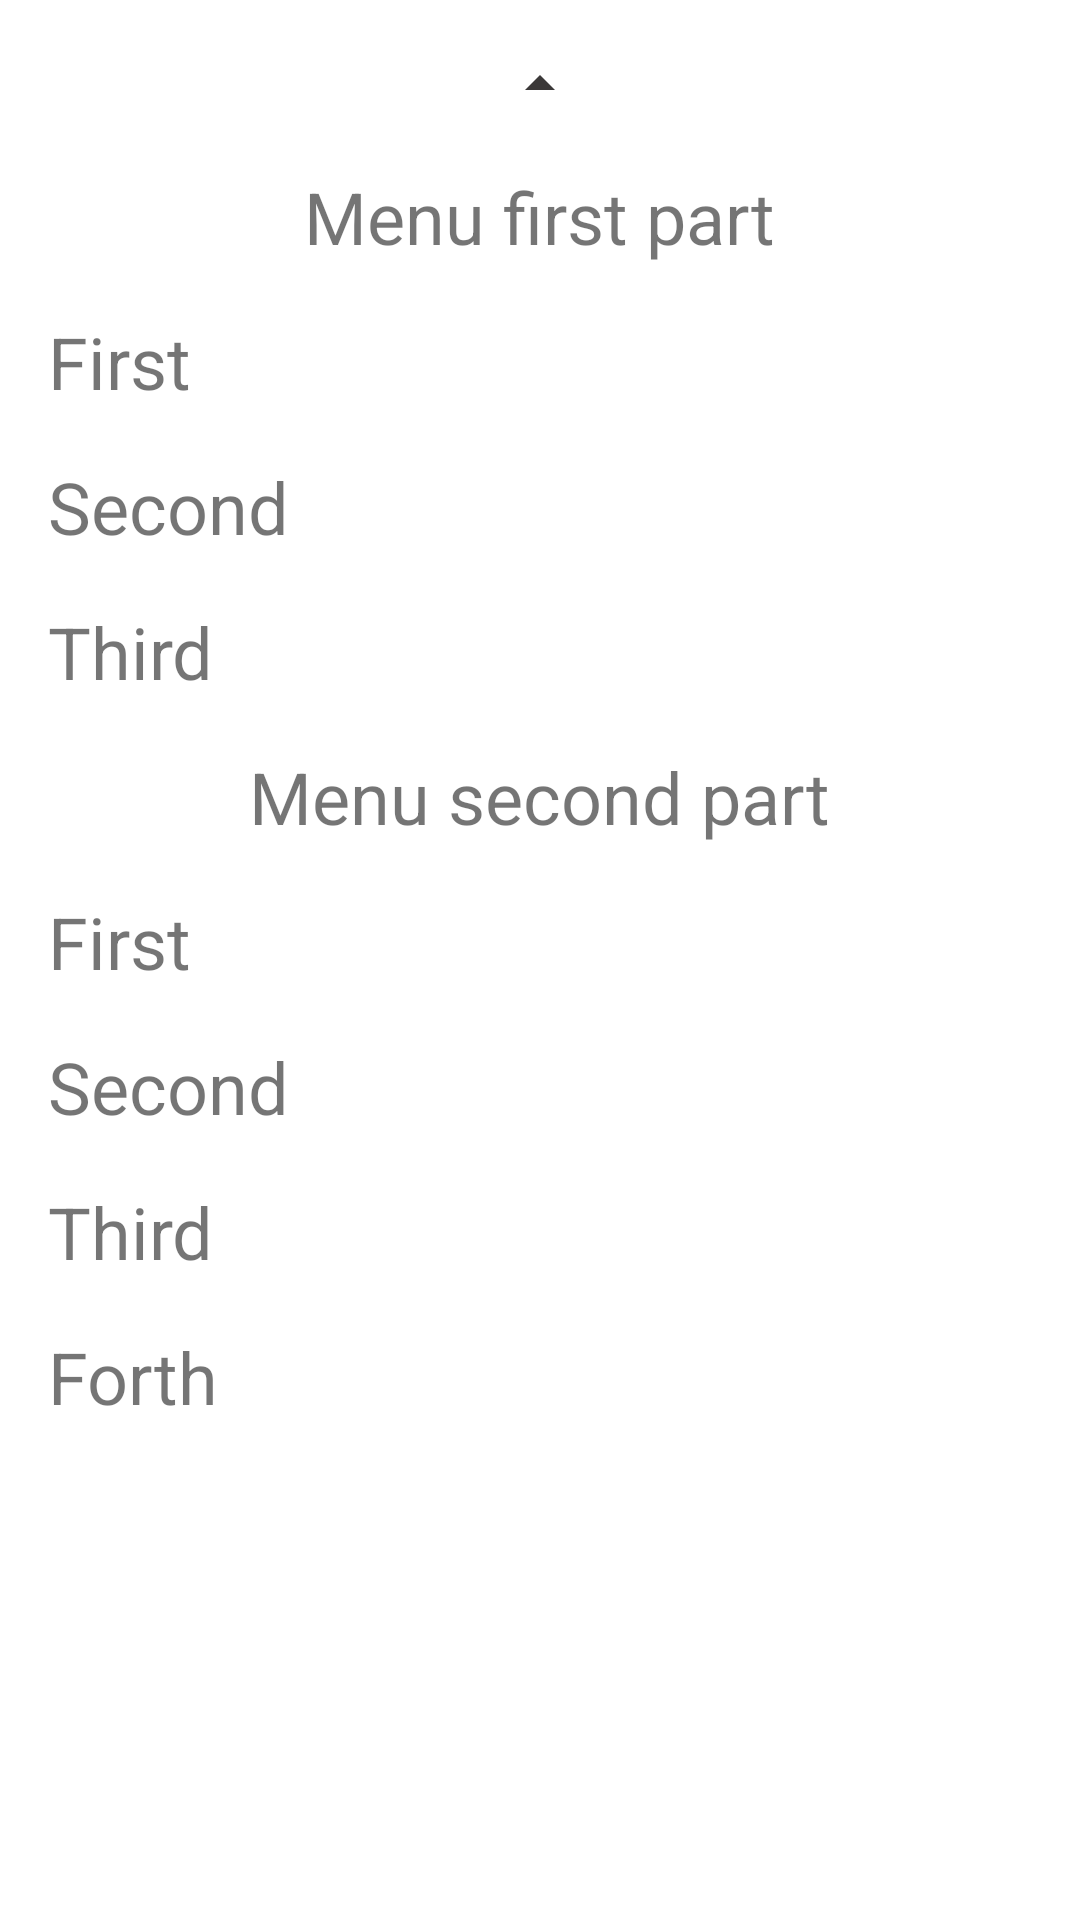

Named icons in this screenshot (1080×1920) and their centers, (x,y):
arrow drop up: (540,82)
